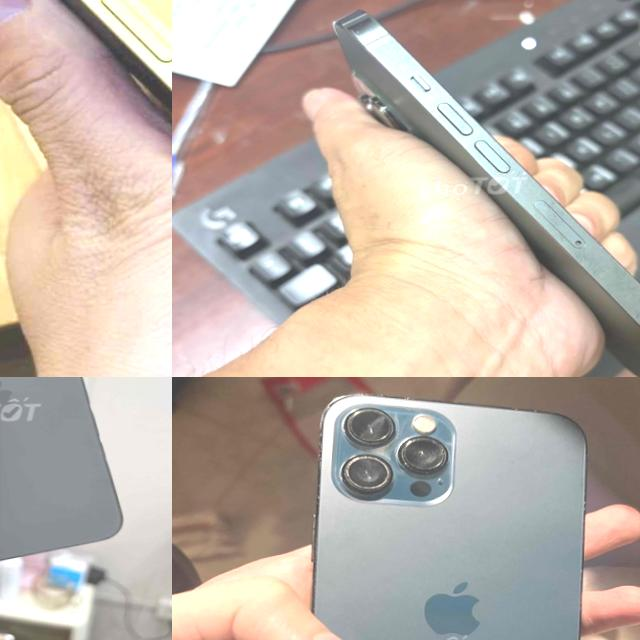scratch: (286, 396, 334, 622), (571, 227, 640, 377)
